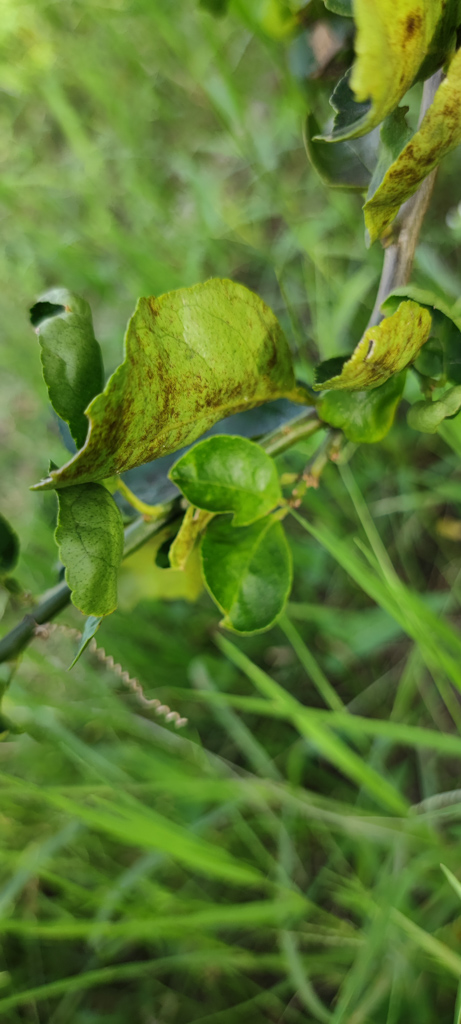Canker: (46, 278, 297, 490), (377, 140, 446, 196), (339, 338, 403, 391), (394, 7, 439, 67)
